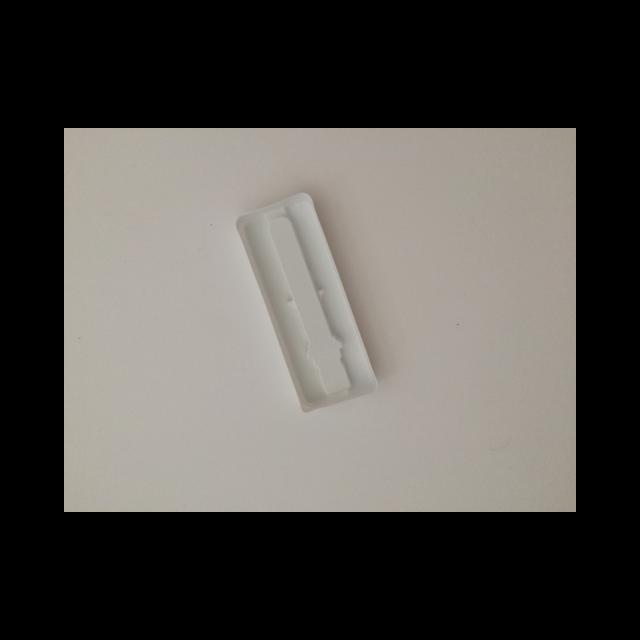plastic: (234, 192, 377, 412)
